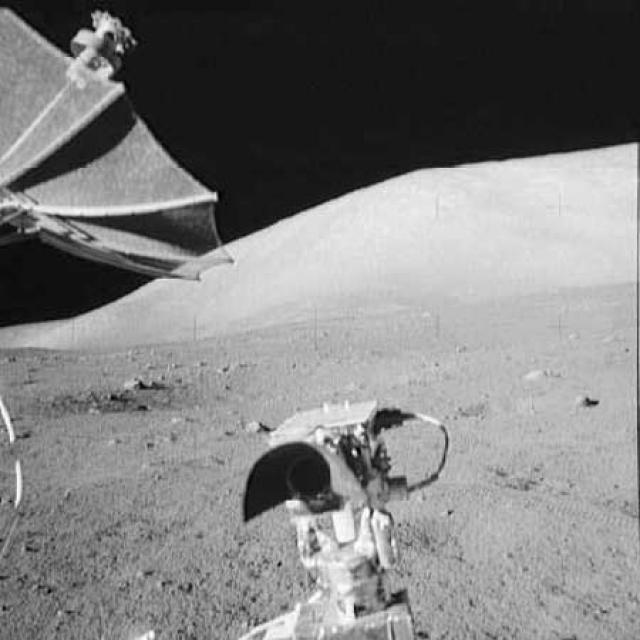artifact: (0, 5, 236, 288), (235, 396, 449, 639), (0, 396, 37, 565)
crater: (85, 366, 328, 413)
